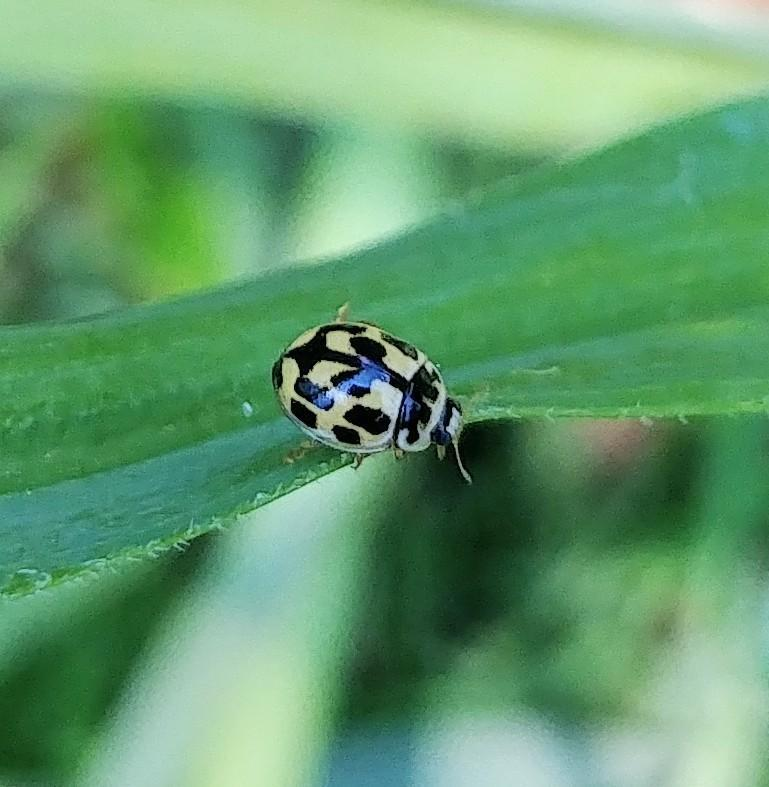ladybug: (269, 315, 481, 493)
